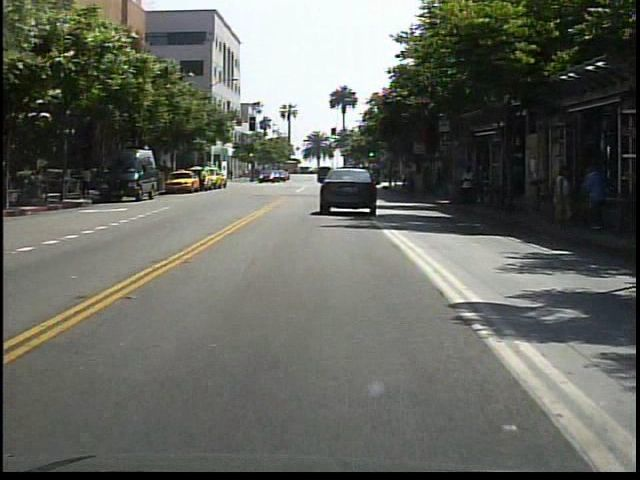person: (457, 164, 481, 214)
